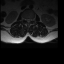CCS_stenosis: (27, 17, 29, 24)
LFS_normal: (30, 17, 32, 22)
LLS_normal: (29, 17, 30, 23)
RFS_normal: (24, 17, 26, 22)
RLS_normal: (26, 17, 27, 22)
